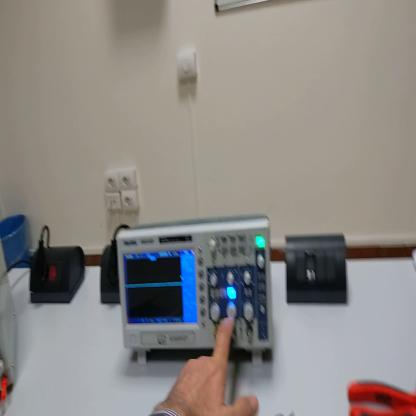hand: (165, 318, 260, 416)
oscilloscope: (121, 219, 279, 372)
pliers: (350, 379, 416, 414)
power supply: (2, 229, 21, 400)
socket: (28, 242, 88, 305), (100, 244, 121, 306)
